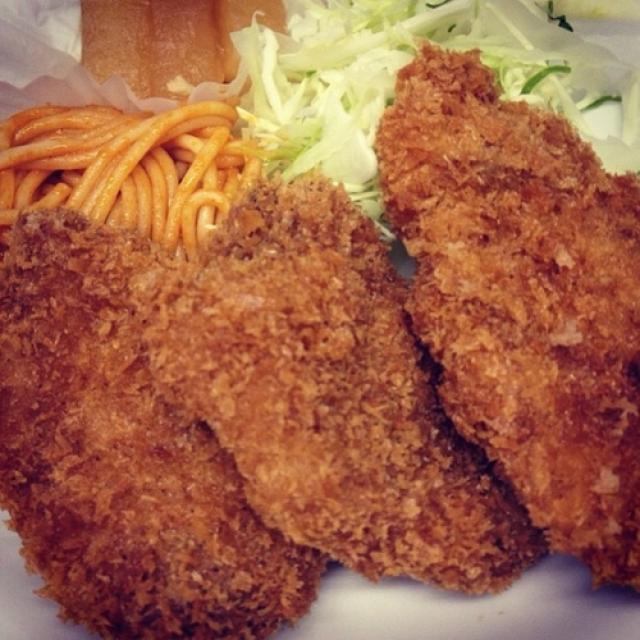牛肉菜式: (9, 45, 631, 623)
